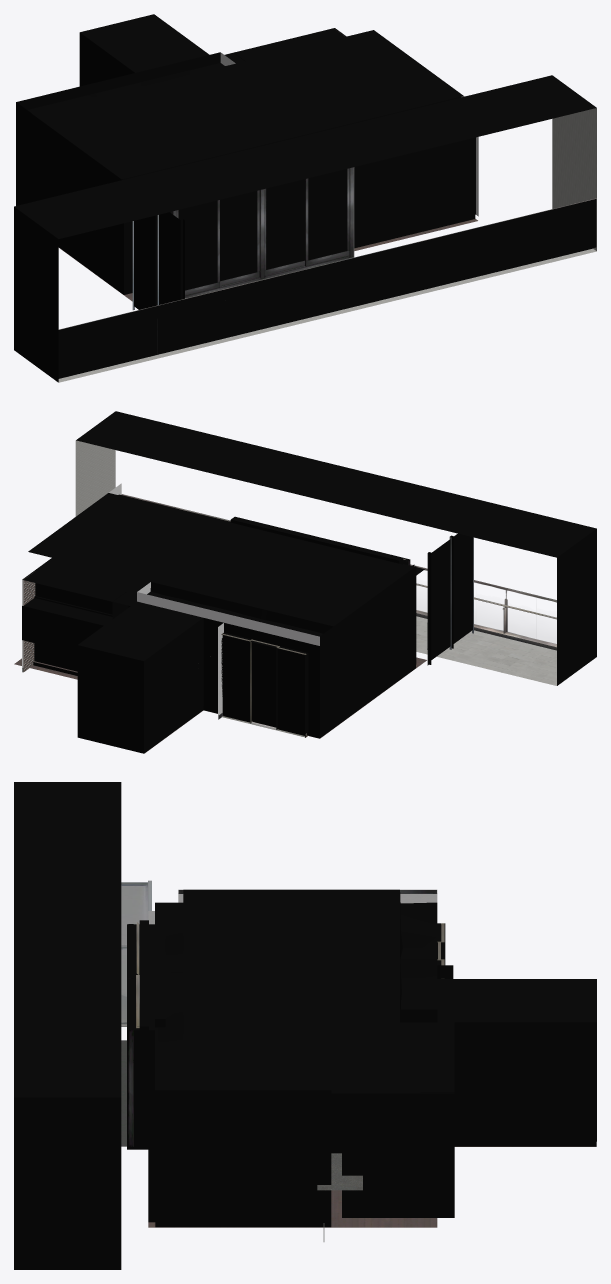
The model's file is house_modern.glb.
3 views of the same model, one above another, from view 1: azimuth 30°, elevation 25°; view 2: azimuth 150°, elevation 25°; view 3: azimuth 270°, elevation 25° (orthographic). The views are drawn at different scales.
Size of the model in its own units: 9.55 by 2.44 by 7.46.
Materials: 42 (42 with a texture image).
